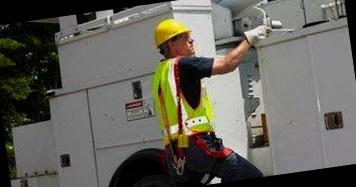helmet: (150, 15, 192, 48)
person: (140, 10, 236, 187)
